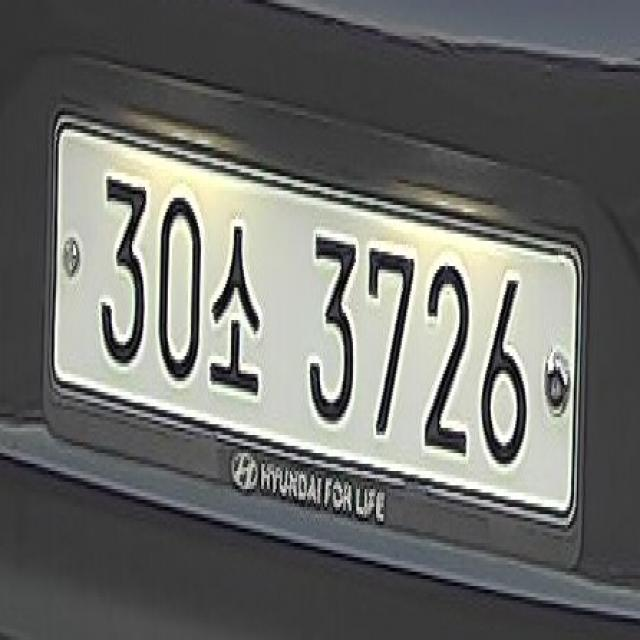0: (155, 180, 205, 392)
2: (420, 259, 470, 467)
3: (307, 226, 359, 428), (99, 169, 149, 378)
6: (476, 262, 531, 468)
7: (363, 238, 416, 442)
license_plate: (47, 115, 584, 529)
so: (210, 212, 262, 410)
